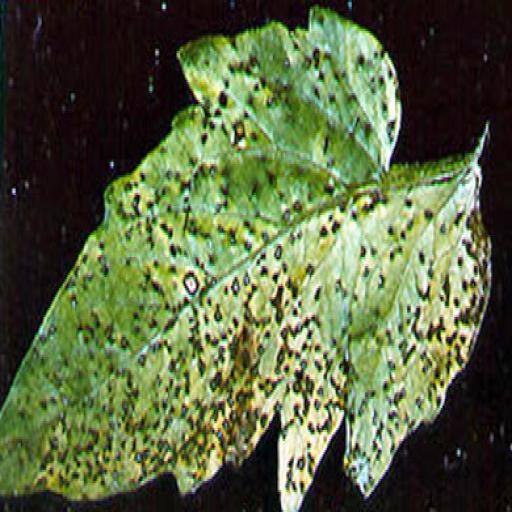disease_tomato: (0, 0, 503, 512)
